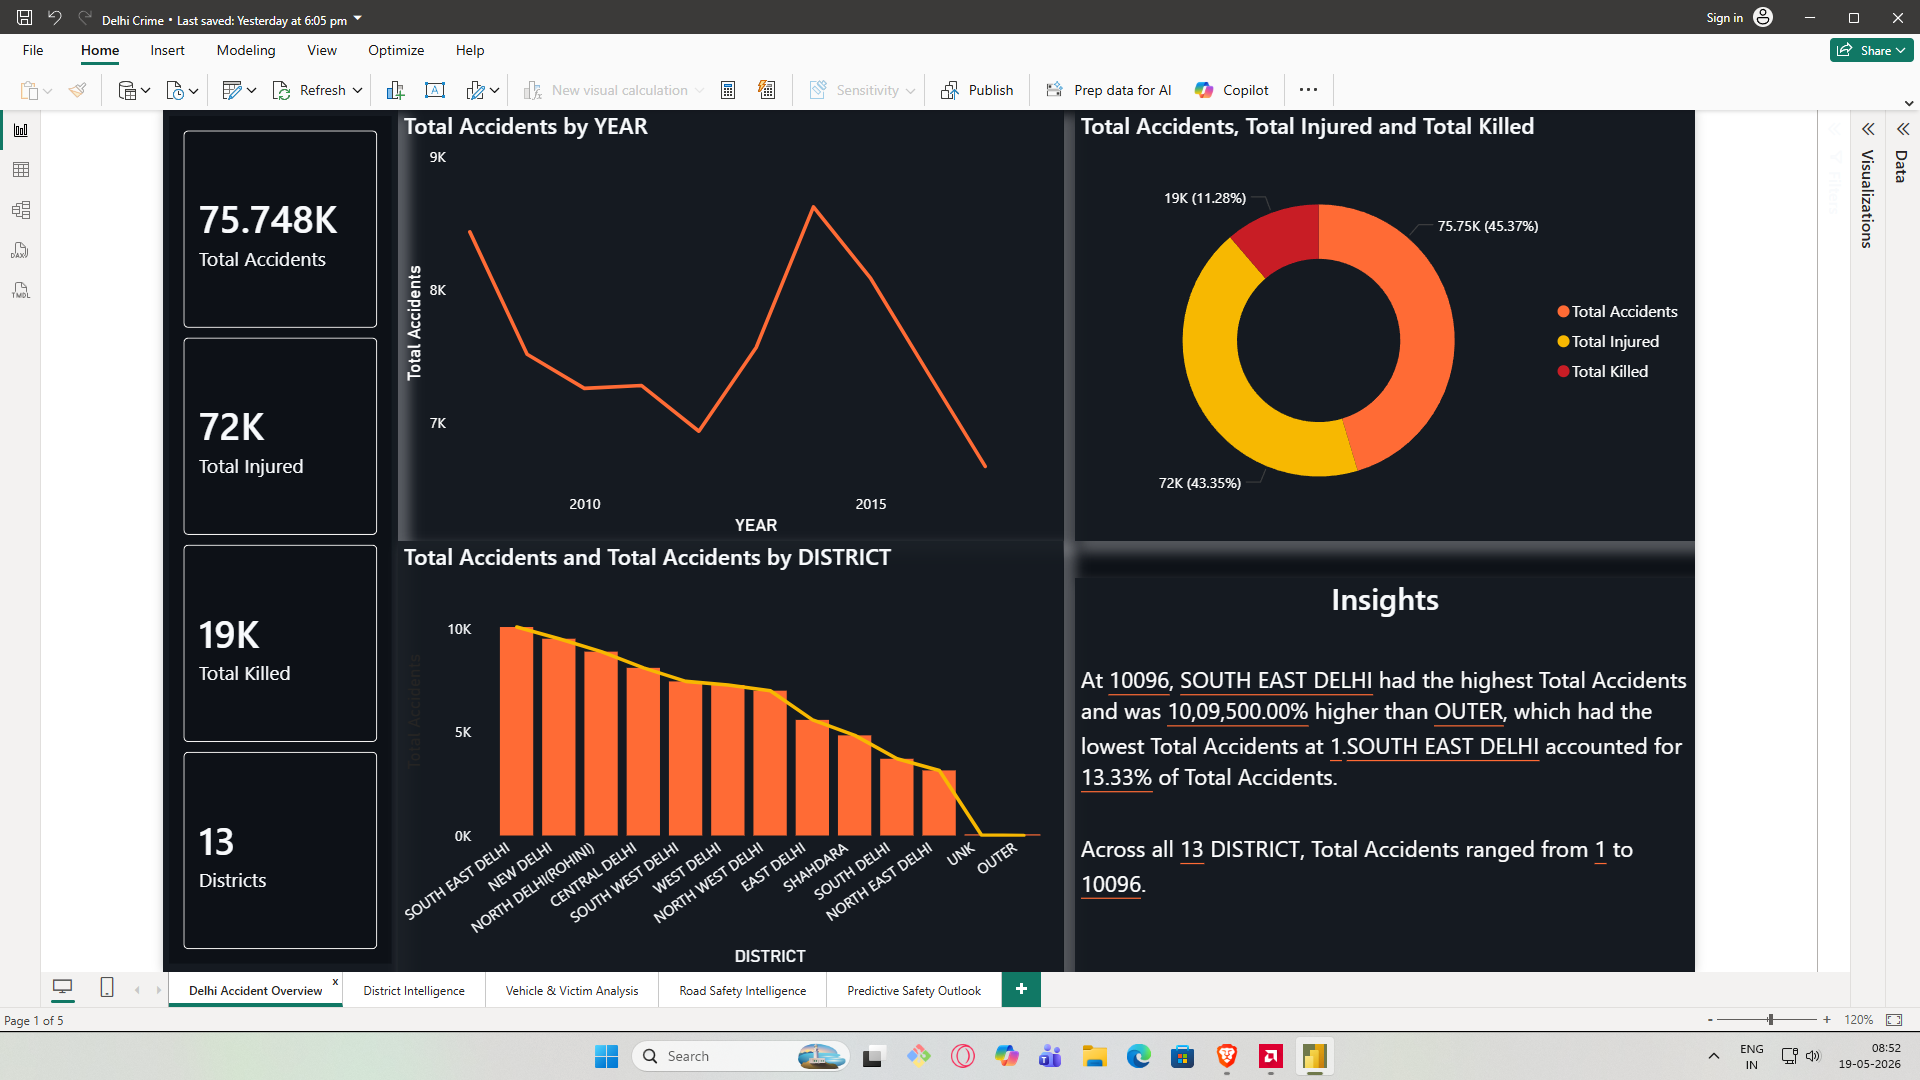

The dashboard page shown, as its layout file describes it:
{"tool":"powerbi","page":{"name":"Delhi Accident Overview","canvas":[1280,720],"ordinal":0},"visuals":[{"type":"lineChart","fields":{"Y":["Data.Total Accidents"],"Category":["Data.YEAR"]},"box":[196.5,0,556.4,359.9],"z":0},{"type":"cardVisual","fields":{"Data":["Data.Total Accidents","Data.Total Injured","Data.Total Killed","Data.Districts"]},"box":[0,0,196.5,719.8],"z":1000},{"type":"lineStackedColumnComboChart","fields":{"Category":["Data.DISTRICT"],"Y":["Data.Total Accidents"],"Y2":["Data.Total Accidents"]},"box":[196,360,556,360],"z":2000},{"type":"donutChart","fields":{"Y":["Data.Total Accidents","Data.Total Injured","Data.Total Killed"]},"box":[762,0,518,360],"z":3000},{"type":"textbox","title":"Insights","box":[761.6,391,518.4,328.8],"z":4000}]}

Visuals, with their boxes on the page's 1280x720 design canvas (x1, y1, x2, y2). These are canvas units, not pixel positions in the 1920x1080 screenshot, which may show the page scaled, cropped or inside an application window:
lineChart - Data.Total Accidents x Data.YEAR: [196,0,753,360]
cardVisual - Data.Total Accidents x Data.Total Injured: [0,0,196,720]
lineStackedColumnComboChart - Data.DISTRICT x Data.Total Accidents: [196,360,752,720]
donutChart - Data.Total Accidents x Data.Total Injured: [762,0,1280,360]
"Insights" textbox: [762,391,1280,720]
